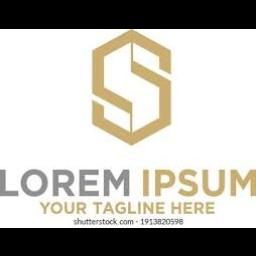m: (100, 167, 136, 199)
o: (22, 168, 52, 196)
s: (178, 168, 198, 196)
u: (200, 168, 230, 196)
